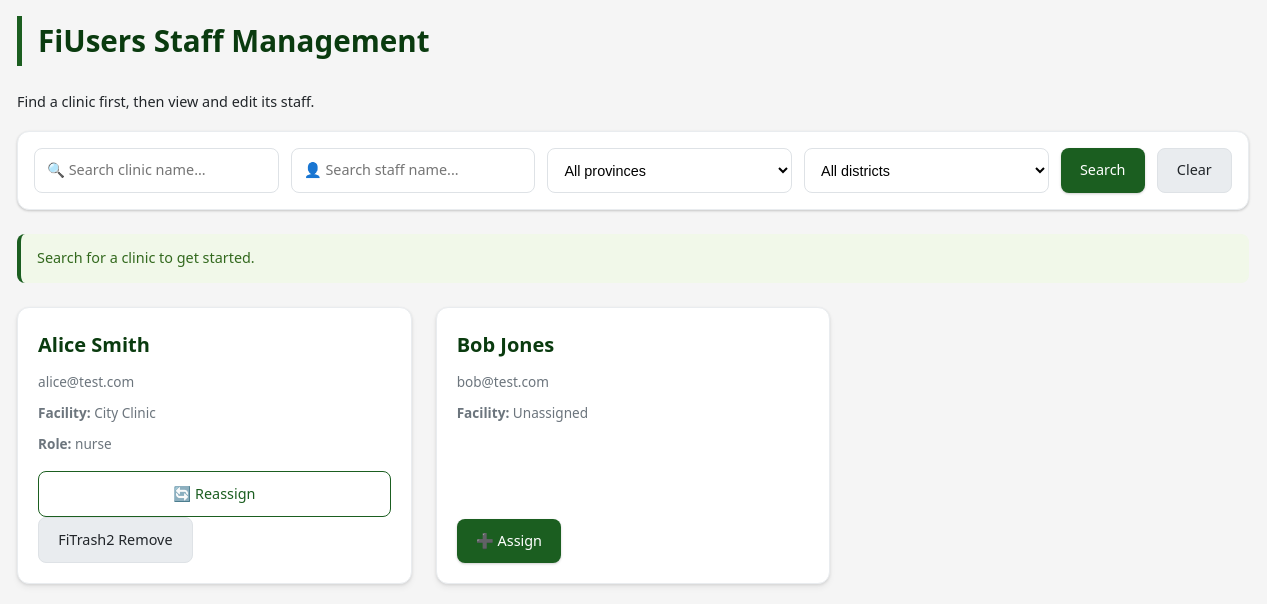
Test: AdminStaff › filters visible staff using search input
Check: the heading "Alice Smith" is shown, box [38, 331, 150, 358]
Type "Alice" into the field with placeholder "👤 Search staff name...".
click(413, 171); type("Alice")  # box [291, 148, 535, 194]
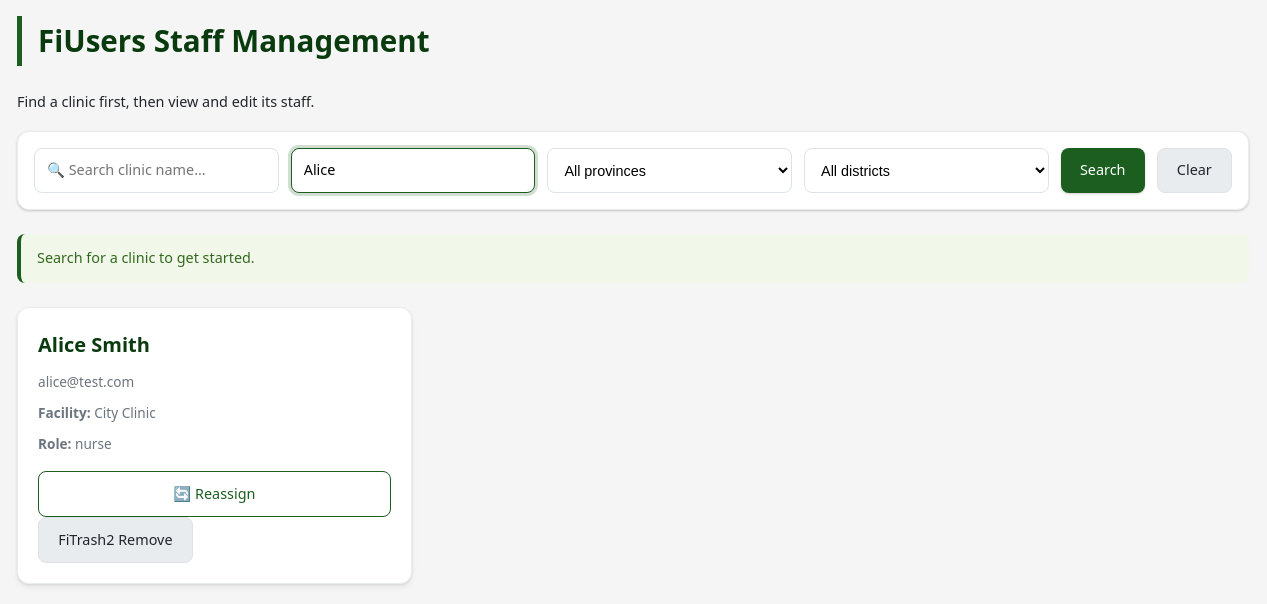
Check: the heading "Alice Smith" is shown, box [38, 331, 150, 358]
Check: the heading "Bob Jones" is gone
